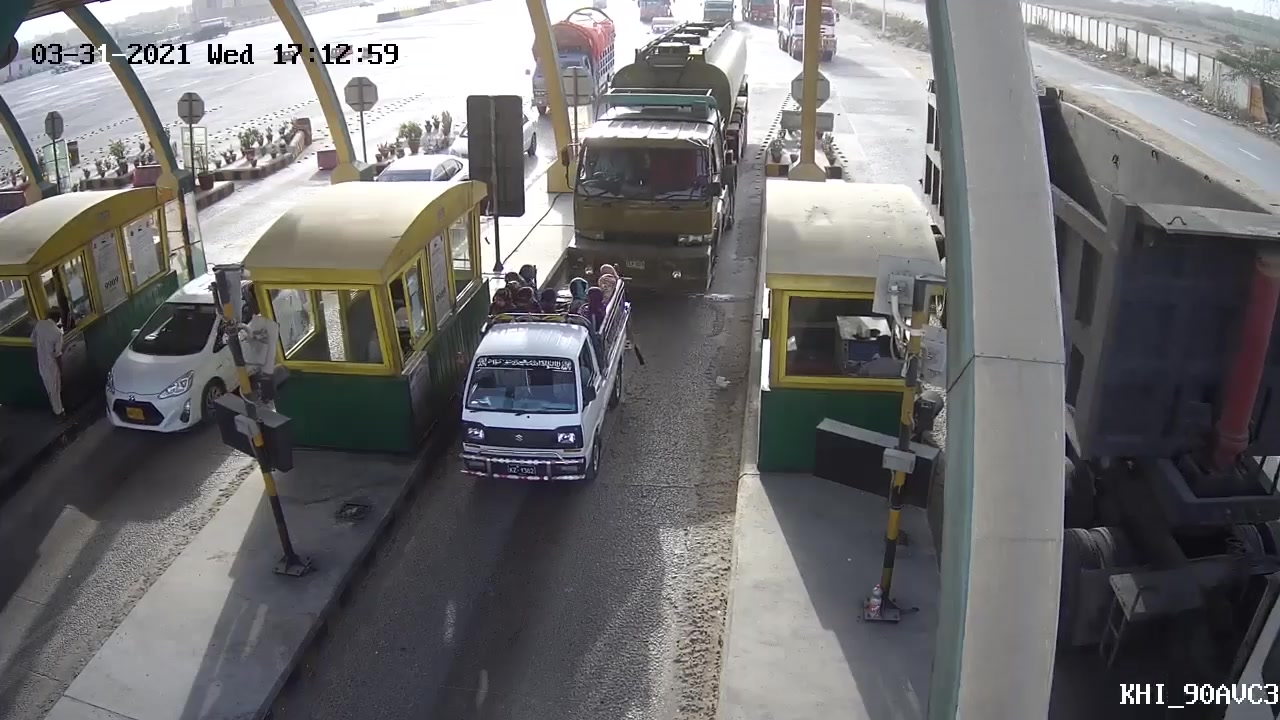F1: (429, 268, 648, 499)
F6: (568, 6, 759, 295)
